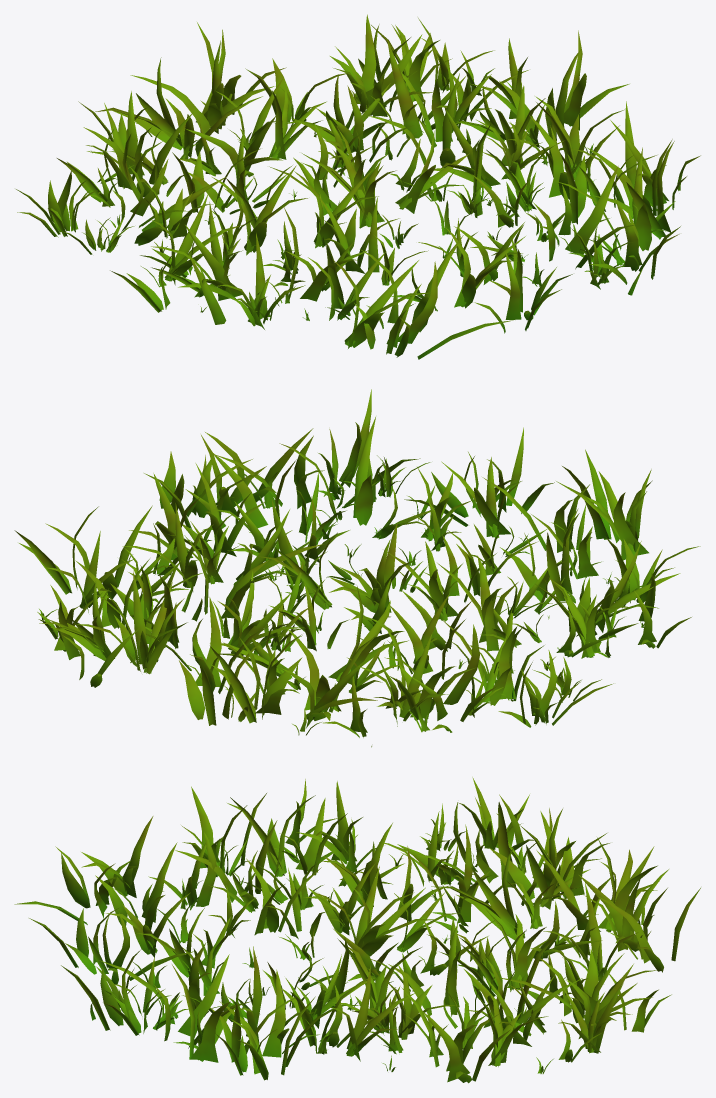
The model's file is GrassLowPoly.fbx.
3 views of the same model, one above another, from view 1: azimuth 30°, elevation 25°; view 2: azimuth 150°, elevation 25°; view 3: azimuth 270°, elevation 25° (orthographic). The views are drawn at different scales.
Visible parts, largest first — view 1: Plane.002; view 2: Plane.002; view 3: Plane.002.
Boxes of the visible parts, <box> form: Plane.002: <box>16,14,700,359</box>; Plane.002: <box>14,389,700,747</box>; Plane.002: <box>14,777,700,1083</box>.
Bounding box in the file's own units: 1666 × 247 × 1672.
Materials: 2 (1 with a texture image).
